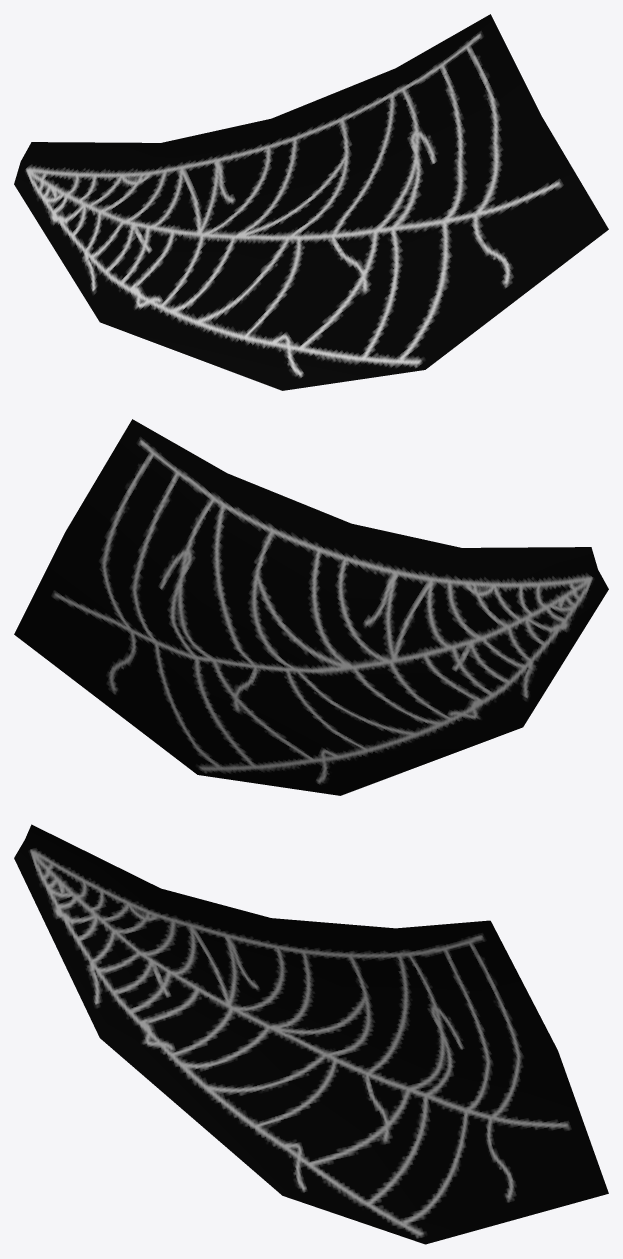
Rendered from SM_Cobwebs_16.fbx.
3 renders of one model, top to bottom at view 1: azimuth 30°, elevation 25°; view 2: azimuth 150°, elevation 25°; view 3: azimuth 330°, elevation 25°, orthographic.
Visible parts, largest first — view 1: SM_Cobwebs_16; view 2: SM_Cobwebs_16; view 3: SM_Cobwebs_16.
Part boxes in pixels (x1,y1,x2,y2): SM_Cobwebs_16: (14, 14, 608, 390); SM_Cobwebs_16: (14, 419, 608, 795); SM_Cobwebs_16: (14, 824, 608, 1244).
Bounding box in the file's own units: 120 × 65.39 × 6.73.
1 material, 1 textured.
